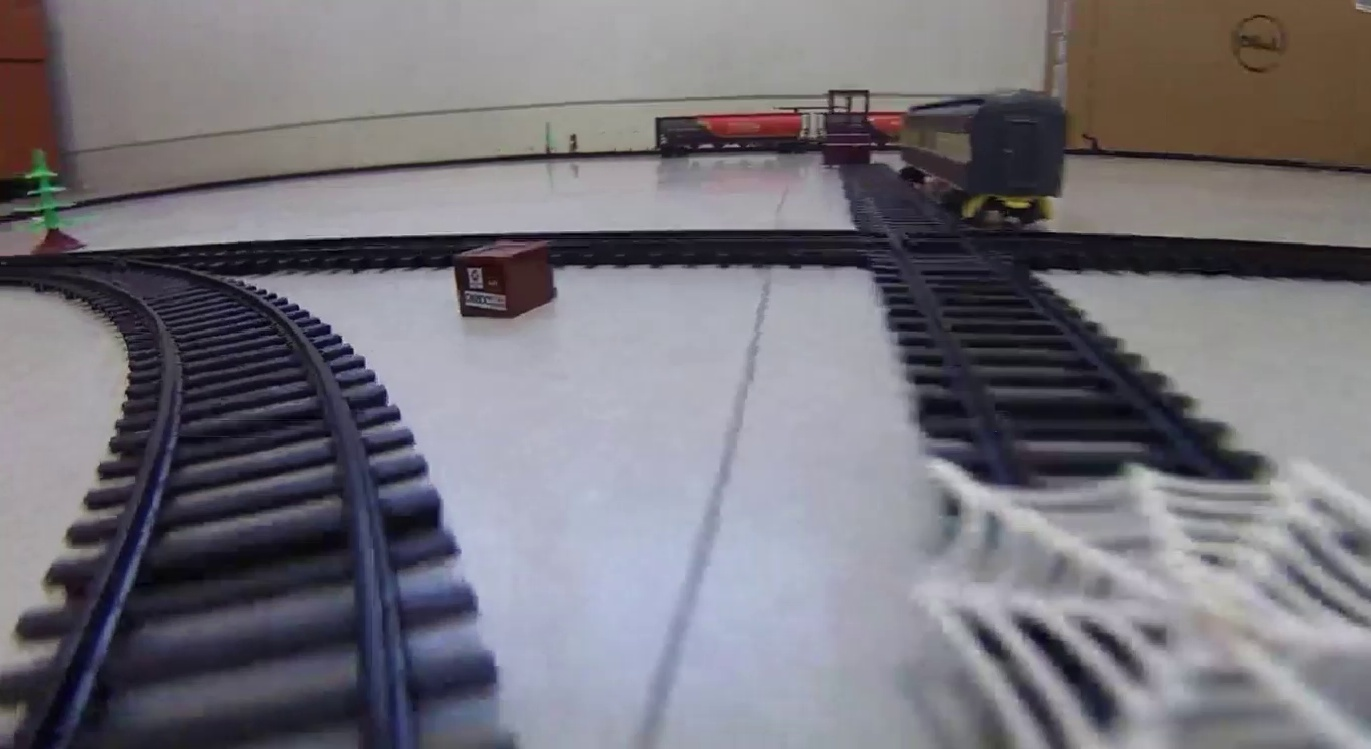box: (451, 234, 558, 317)
